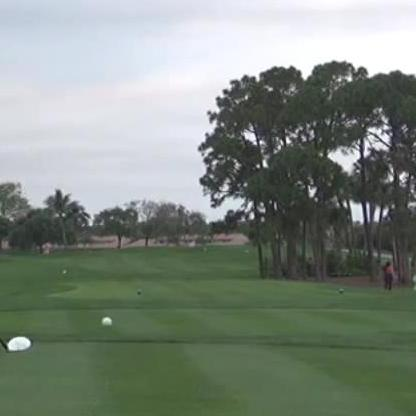golfball: (99, 315, 113, 327)
